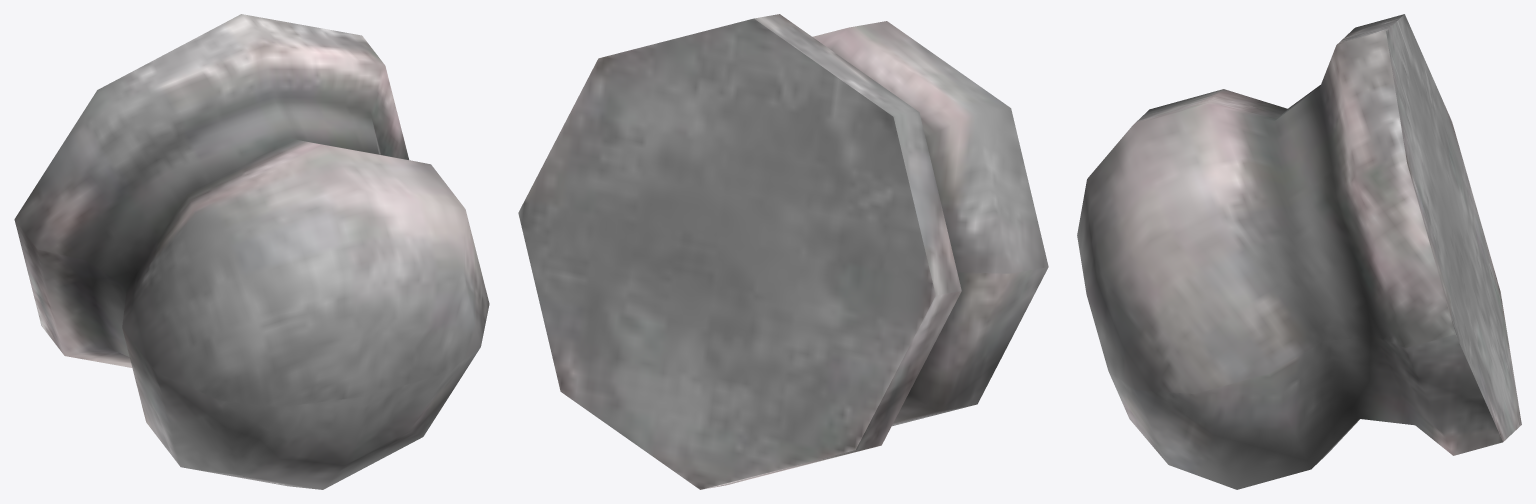
The model's file is weapon-copperweapons.glb.
3 renders of one model, left to right at view 1: azimuth 30°, elevation 25°; view 2: azimuth 150°, elevation 25°; view 3: azimuth 270°, elevation 25°, orthographic. The views are drawn at different scales.
Bounding box in the file's own units: 0.255 × 0.2737 × 0.2448.
Materials: 1 (1 with a texture image).
